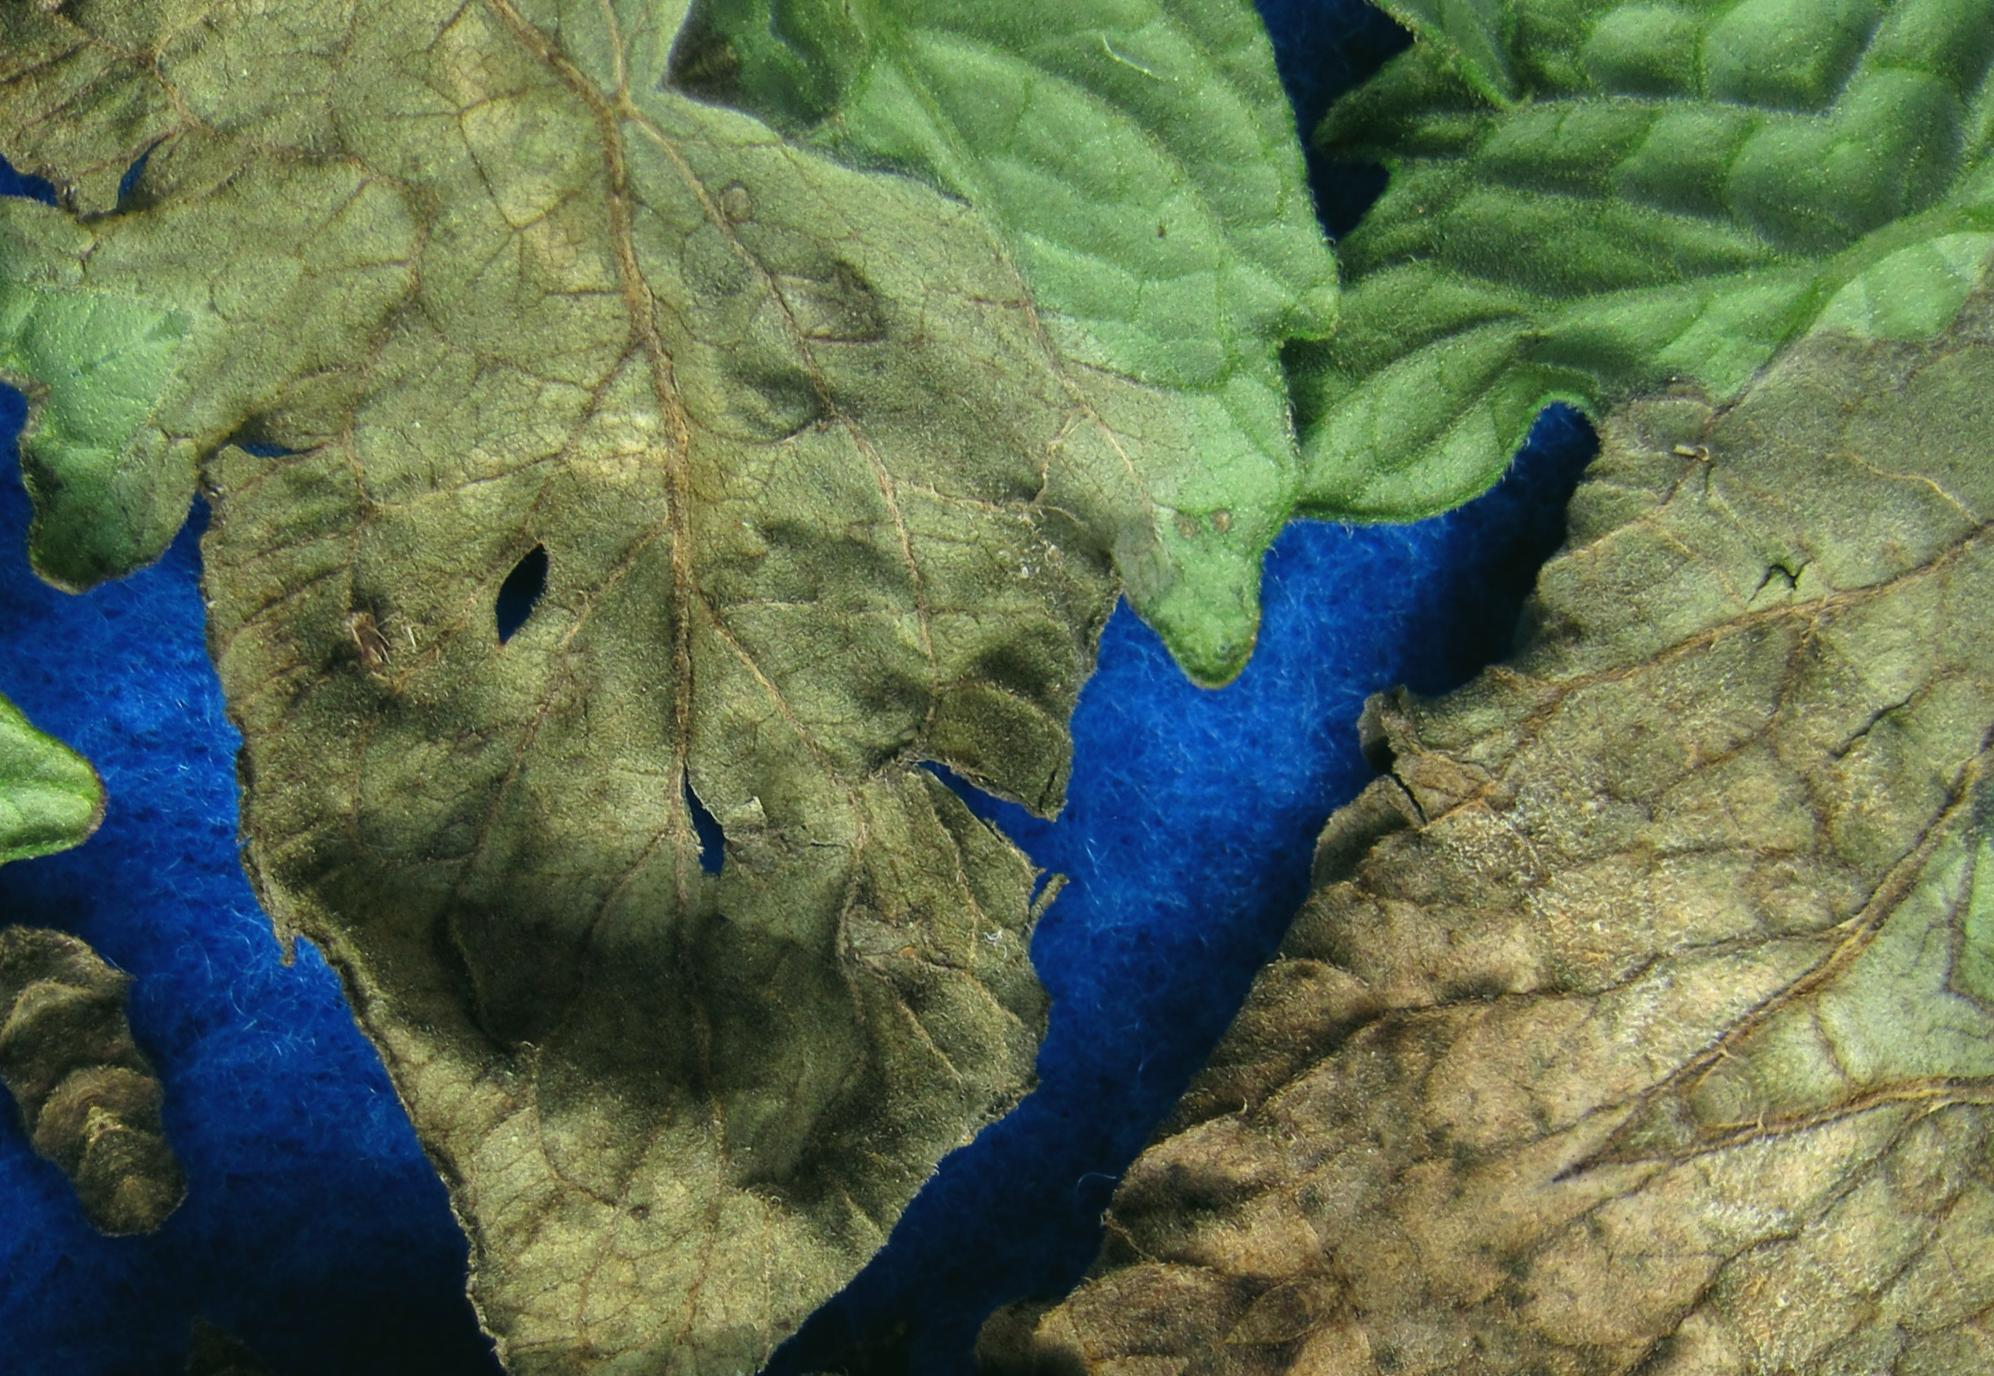Tomato leaf late blight: (0, 0, 1988, 1376), (394, 0, 1994, 1376)
